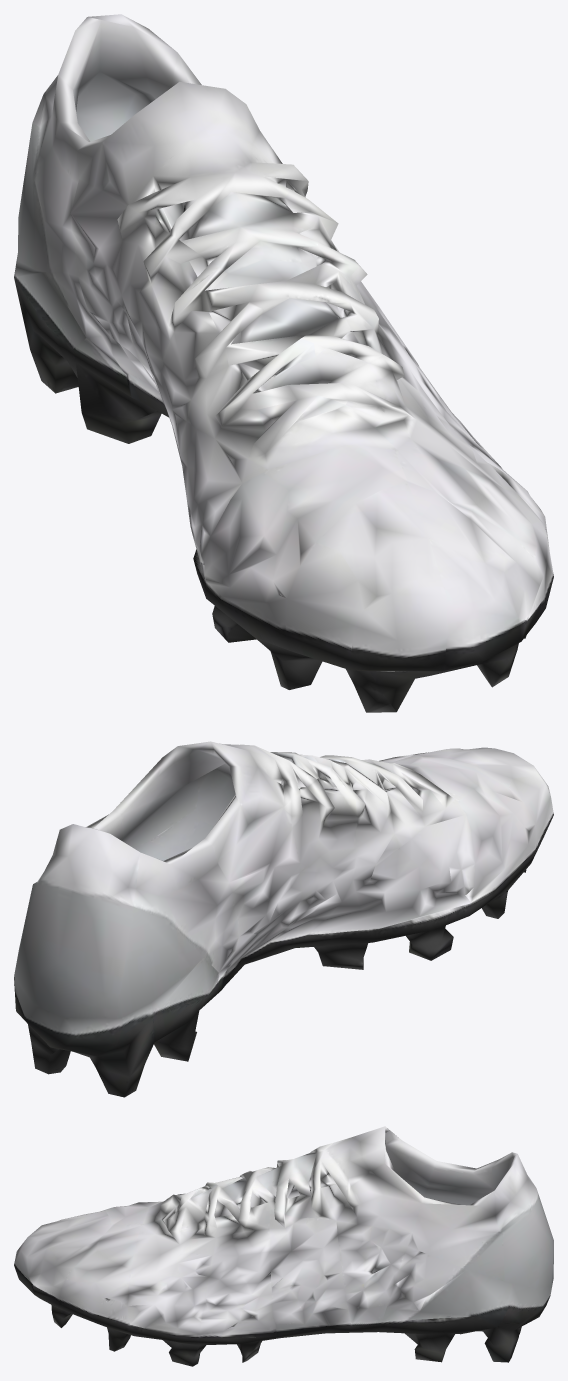
The model's file is boot-power-lod.glb.
3 views of the same model, one above another, from view 1: azimuth 30°, elevation 25°; view 2: azimuth 150°, elevation 25°; view 3: azimuth 270°, elevation 25° (orthographic). The views are drawn at different scales.
Parts seen in each view (by area): view 1: tripo_node_7343a58c-a9a1-4099-9a38-c6bf5280b52a; view 2: tripo_node_7343a58c-a9a1-4099-9a38-c6bf5280b52a; view 3: tripo_node_7343a58c-a9a1-4099-9a38-c6bf5280b52a.
Part boxes in pixels (x1,y1,x2,y2): tripo_node_7343a58c-a9a1-4099-9a38-c6bf5280b52a: (14,14,553,712); tripo_node_7343a58c-a9a1-4099-9a38-c6bf5280b52a: (14,741,553,1097); tripo_node_7343a58c-a9a1-4099-9a38-c6bf5280b52a: (14,1126,553,1366).
Size of the model in its own units: 0.3742 by 0.4194 by 0.9964.
1 material, 1 textured.
